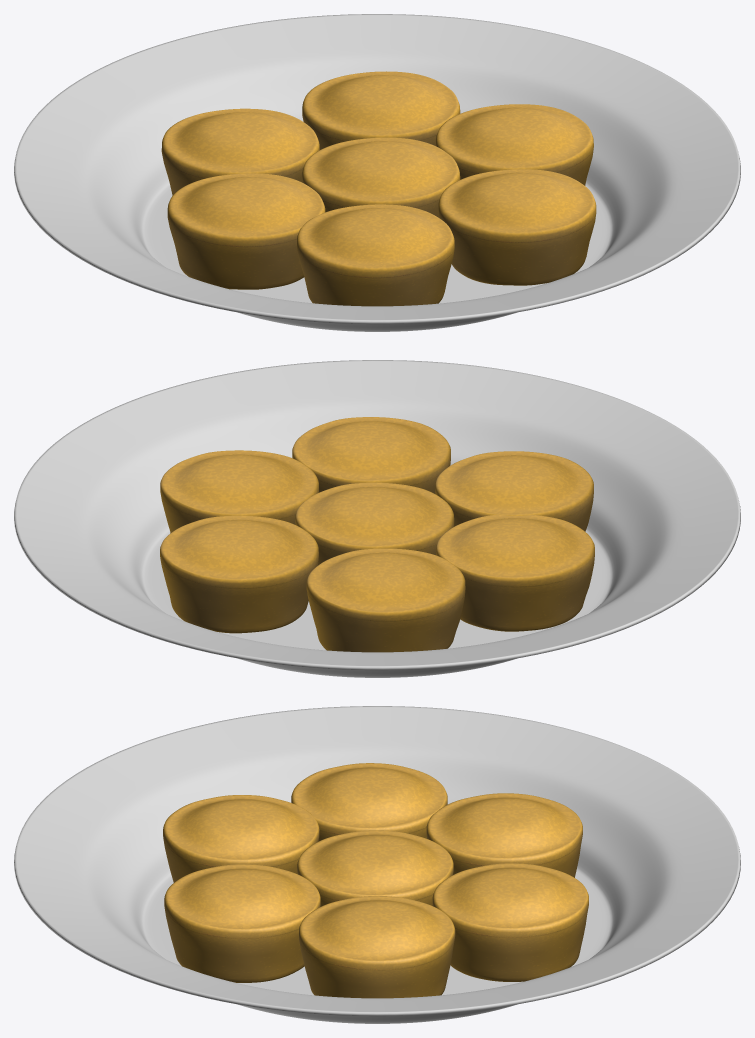
Rendered from cucuru.fbx.
3 renders of one model, top to bottom at view 1: azimuth 30°, elevation 25°; view 2: azimuth 150°, elevation 25°; view 3: azimuth 270°, elevation 25°, orthographic.
Parts seen in each view (by area): view 1: plate, Cylinder.007, Cylinder.003, Cylinder, Cylinder.002, Cylinder.005, Cylinder.004, Cylinder.006; view 2: plate, Cylinder.004, Cylinder.003, Cylinder.002, Cylinder.005, Cylinder, Cylinder.006, Cylinder.007; view 3: plate, Cylinder.004, Cylinder.007, Cylinder.005, Cylinder, Cylinder.002, Cylinder.006, Cylinder.003.
Boxes of the visible parts, x1=… form: plate: x1=14, y1=14, x2=740, y2=331; Cylinder.007: x1=438, y1=169, x2=596, y2=285; Cylinder.003: x1=167, y1=173, x2=325, y2=289; Cylinder: x1=296, y1=204, x2=454, y2=306; Cylinder.002: x1=161, y1=108, x2=319, y2=195; Cylinder.005: x1=436, y1=104, x2=593, y2=185; Cylinder.004: x1=302, y1=71, x2=460, y2=149; Cylinder.006: x1=302, y1=137, x2=460, y2=217; plate: x1=14, y1=360, x2=740, y2=677; Cylinder.004: x1=160, y1=515, x2=318, y2=633; Cylinder.003: x1=436, y1=514, x2=594, y2=631; Cylinder.002: x1=306, y1=548, x2=465, y2=652; Cylinder.005: x1=160, y1=450, x2=318, y2=533; Cylinder: x1=435, y1=451, x2=593, y2=531; Cylinder.006: x1=295, y1=482, x2=454, y2=565; Cylinder.007: x1=292, y1=417, x2=450, y2=493; plate: x1=14, y1=706, x2=740, y2=1023; Cylinder.004: x1=432, y1=863, x2=588, y2=981; Cylinder.007: x1=164, y1=864, x2=320, y2=982; Cylinder.005: x1=299, y1=896, x2=455, y2=998; Cylinder: x1=163, y1=795, x2=319, y2=882; Cylinder.002: x1=426, y1=793, x2=582, y2=877; Cylinder.006: x1=297, y1=830, x2=453, y2=906; Cylinder.003: x1=291, y1=763, x2=447, y2=841.
Size of the model in its own units: 79.64 by 9.33 by 79.64.
2 materials, 1 textured.
